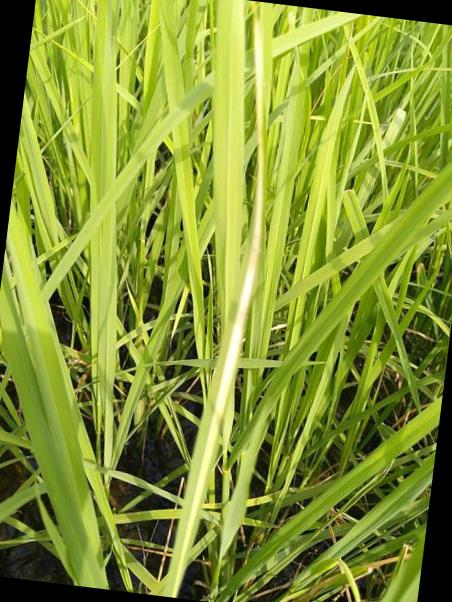Leaf Blight: (169, 17, 262, 598)
